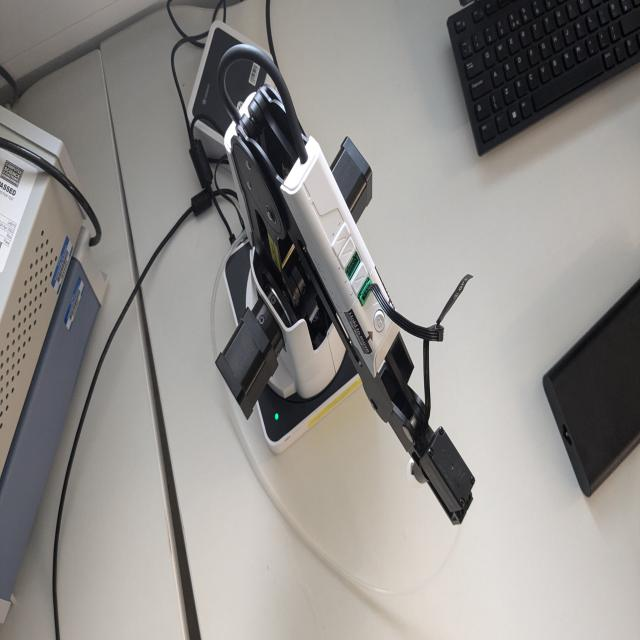Robot-end-effector-HF8z: (404, 420, 482, 530)
